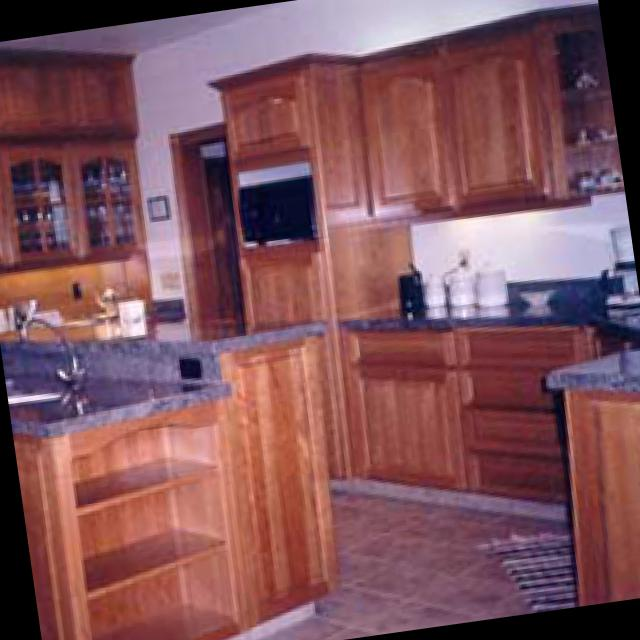bowl -X: (525, 289, 558, 305)
cabinet door: (210, 0, 624, 507), (21, 333, 340, 640), (570, 392, 640, 601)
cabinets: (362, 3, 625, 223), (215, 51, 420, 319), (342, 328, 590, 505), (0, 48, 148, 271)
ceiling beam: (0, 4, 268, 48)
coffee maker: (588, 214, 640, 315)
counter: (349, 292, 592, 326)
counter bottom: (9, 366, 229, 435), (6, 317, 323, 347), (552, 348, 640, 387)
cup and saucer: (122, 304, 149, 332)
door handle: (175, 124, 243, 320)
floor -X: (255, 487, 576, 640)
glasses -X: (577, 91, 612, 135), (578, 164, 623, 185)
jar -X: (476, 261, 509, 305), (449, 260, 481, 302)
microwave oven: (241, 159, 318, 245)
painting crop: (151, 190, 170, 217)
pot hanger: (399, 270, 430, 313)
rug -partially obscured-: (487, 530, 577, 604)
sink basin: (11, 386, 68, 404)
sink occluded: (24, 292, 96, 380)
teapot: (86, 276, 143, 310)
toaster oven: (9, 293, 44, 322)
wall outlets: (161, 266, 184, 286)
